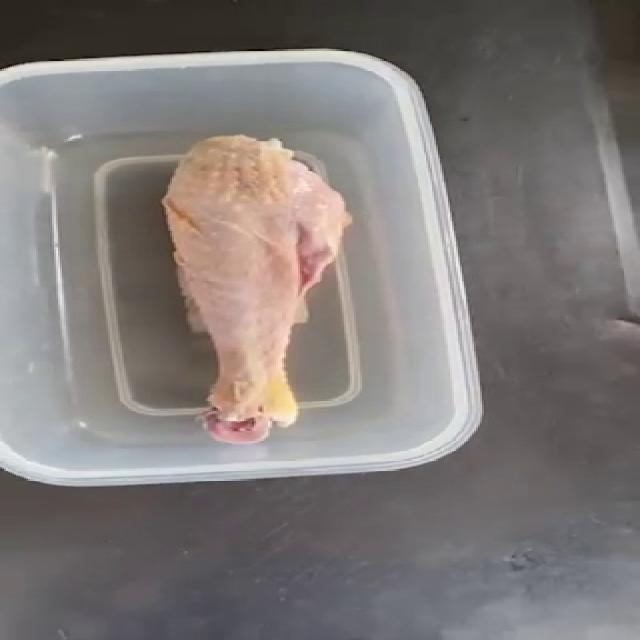chicken: (159, 133, 352, 445)
